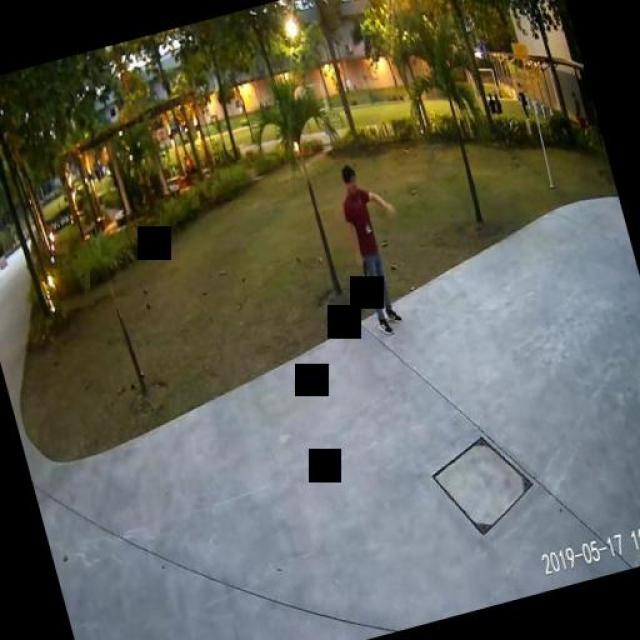gun: (354, 256, 368, 284)
